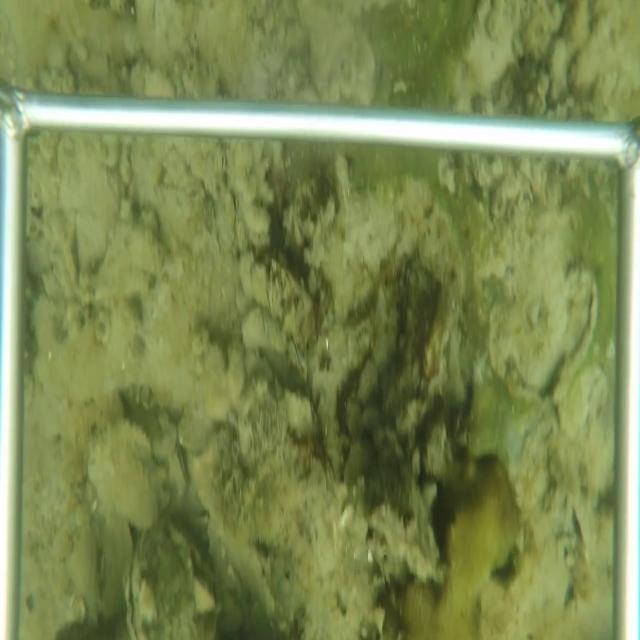Oyster-Closed: (122, 533, 148, 638), (171, 441, 191, 503), (287, 331, 309, 384)
Oyster-Indeterminate: (87, 416, 163, 531)
Oyster-Open: (479, 268, 601, 412)
